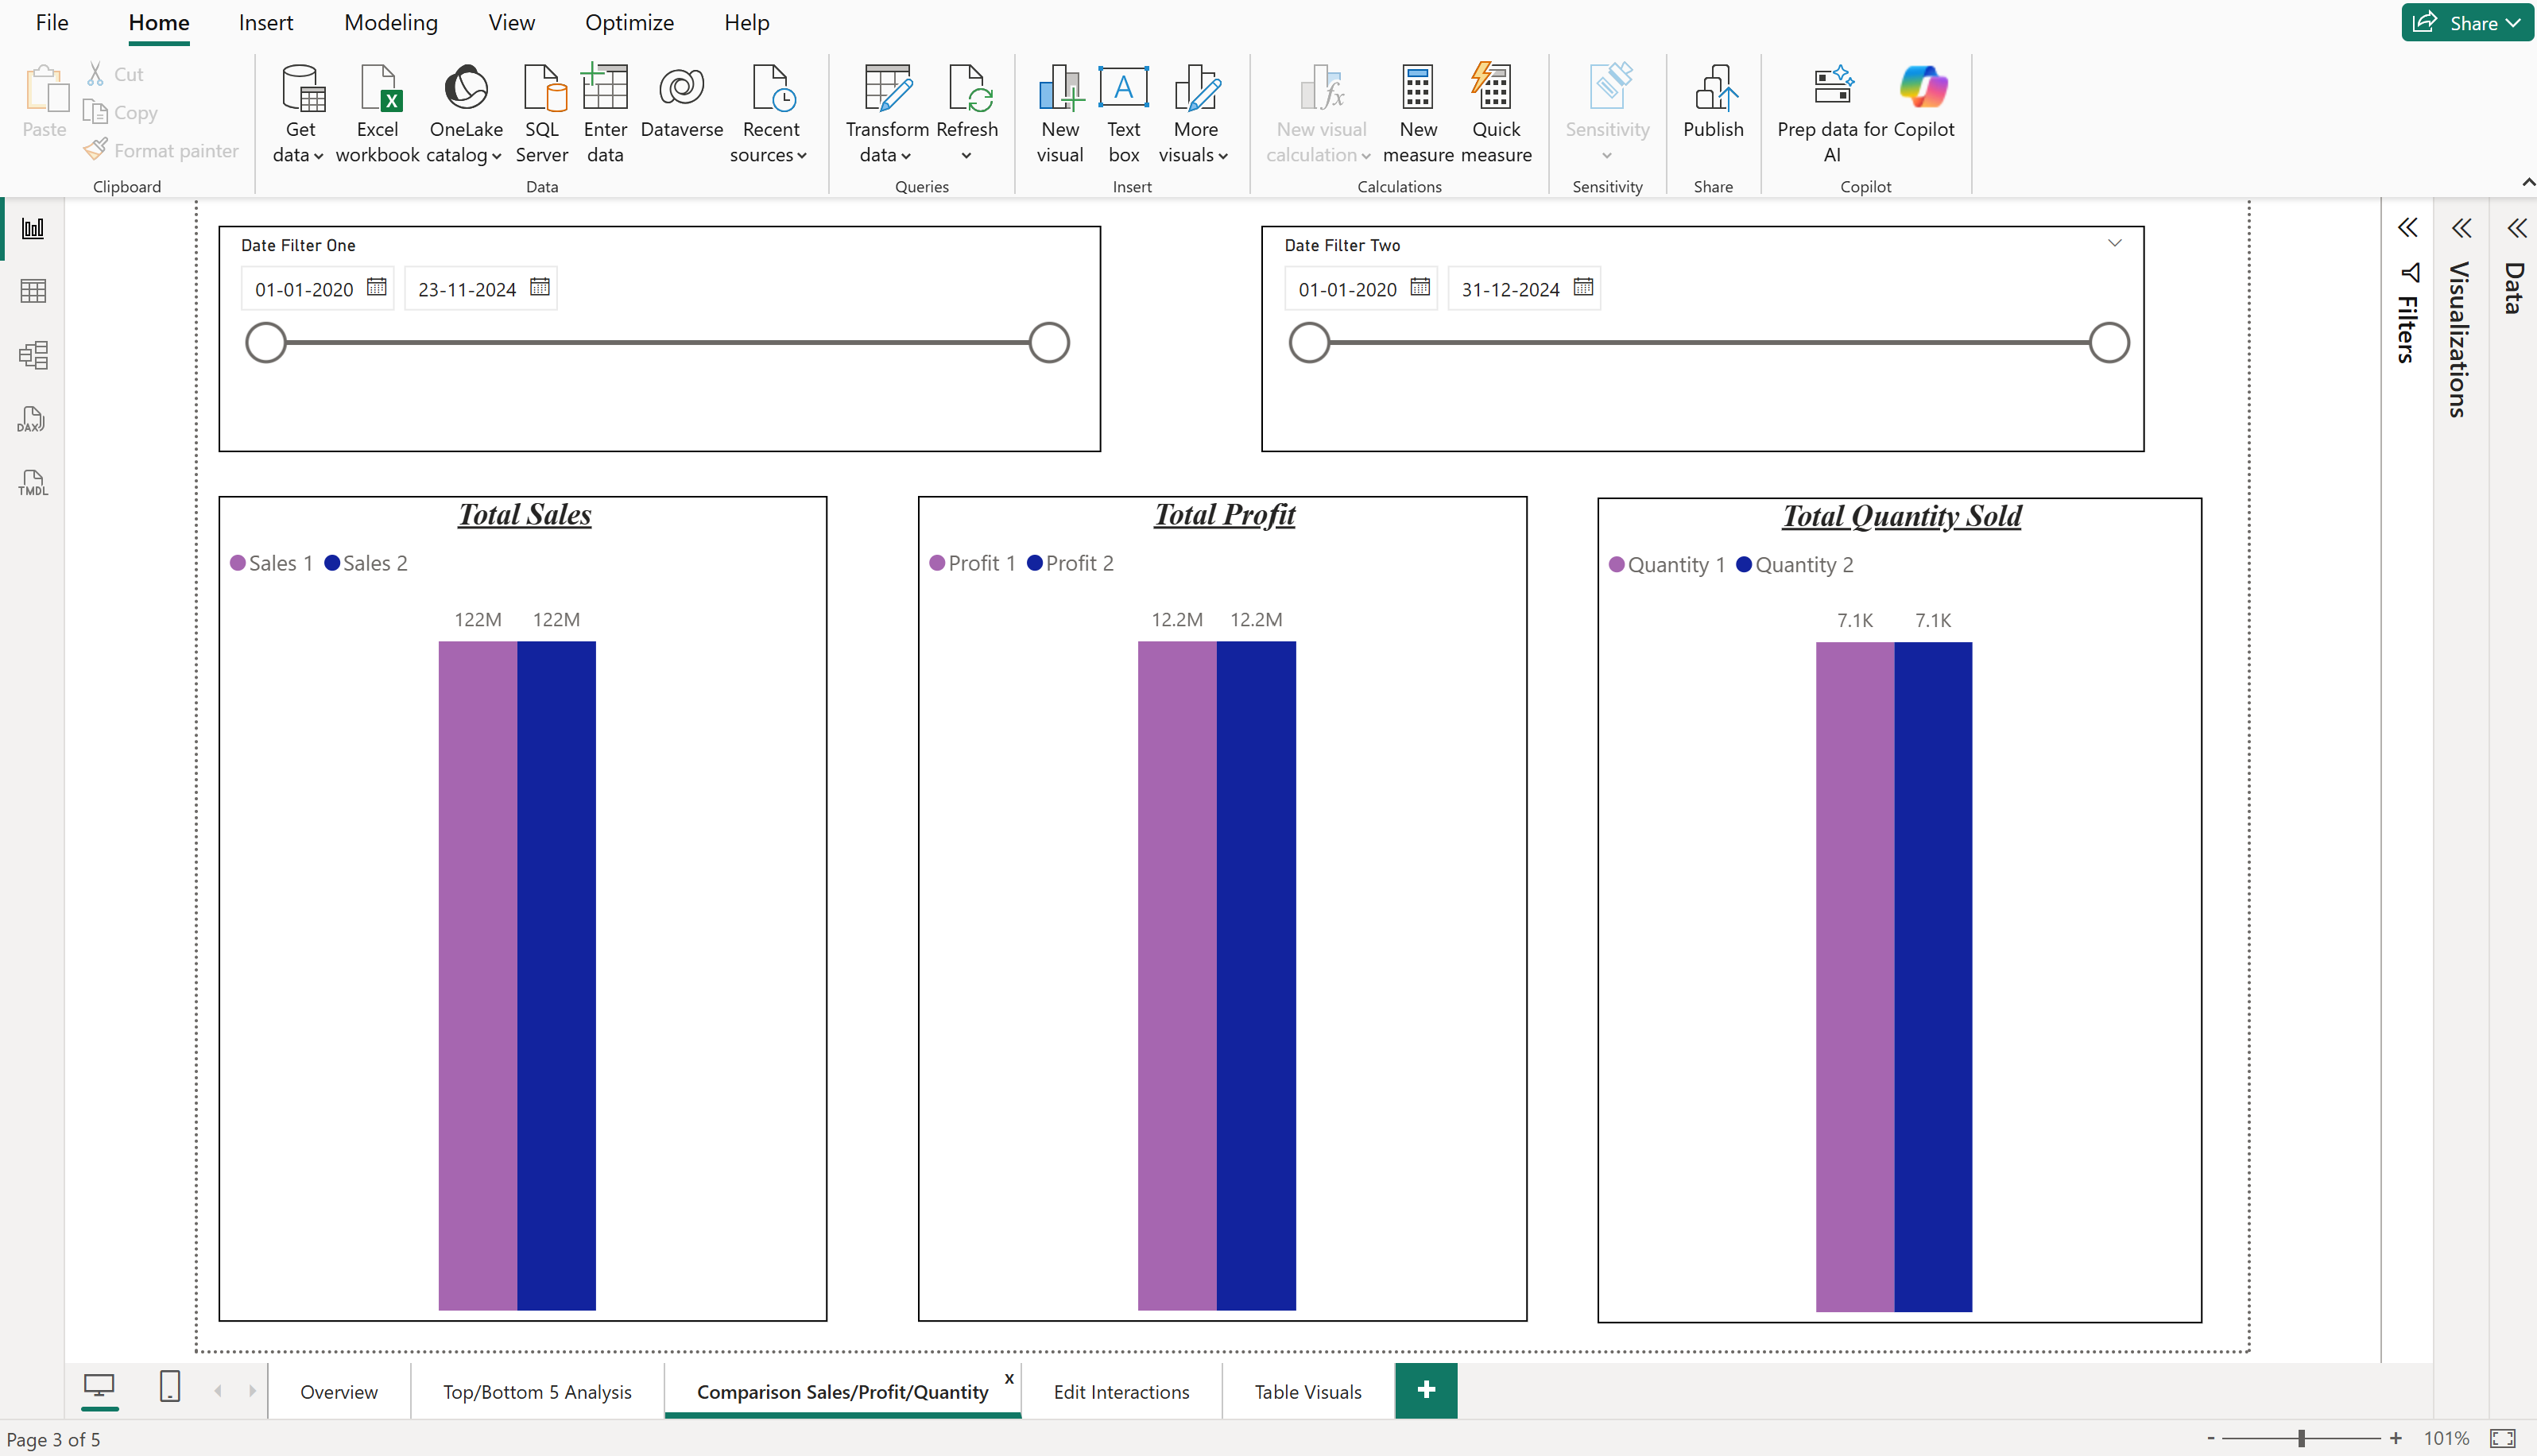

The page's visual inventory and layout, read from the dashboard file:
{"tool":"powerbi","page":{"name":"Comparison Sales/Profit/Quantity","canvas":[1280,720],"ordinal":2},"visuals":[{"type":"slicer","fields":{"Values":["Date Table 1.Date"]},"box":[12.9,18,551.3,141.4],"z":0},{"type":"slicer","fields":{"Values":["Date Table 2.Date"]},"box":[664.4,18,551.3,141.4],"z":1000},{"type":"clusteredColumnChart","title":"Total Sales","fields":{"Y":["Sum(Fact Table.Net Sales   )","Date Table 1.Sum of Net Sales"]},"box":[12.9,186.3,380.4,515.3],"z":2000},{"type":"clusteredColumnChart","title":"Total Profit","fields":{"Y":["Sum(Fact Table.Profit)","Measures (2).Total Profit"]},"box":[449.8,186.3,380.4,515.3],"z":3000},{"type":"clusteredColumnChart","title":"Total Quantity Sold","fields":{"Y":["Sum(Fact Table.Units Sold)","Measures (2).Quantity Sold"]},"box":[873.9,187.6,377.8,515.3],"z":4000}]}

Visuals, with their boxes on the page's 1280x720 design canvas (x1, y1, x2, y2). These are canvas units, not pixel positions in the 2537x1456 screenshot, which may show the page scaled, cropped or inside an application window:
slicer - Date Table 1.Date: box(13, 18, 564, 159)
slicer - Date Table 2.Date: box(664, 18, 1216, 159)
"Total Sales" clusteredColumnChart: box(13, 186, 393, 702)
"Total Profit" clusteredColumnChart: box(450, 186, 830, 702)
"Total Quantity Sold" clusteredColumnChart: box(874, 188, 1252, 703)
